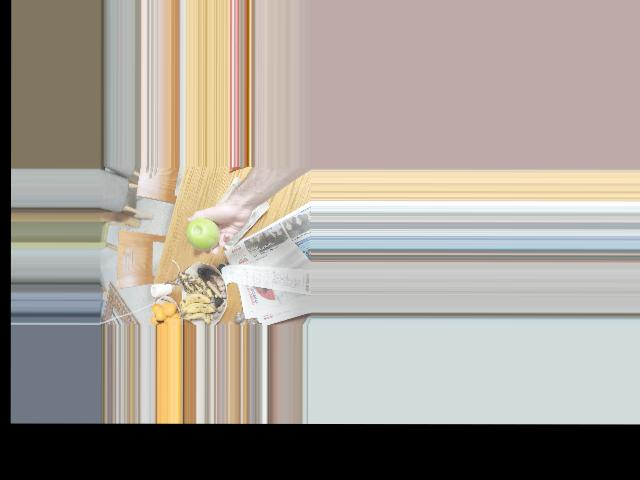apple: (185, 217, 219, 251)
